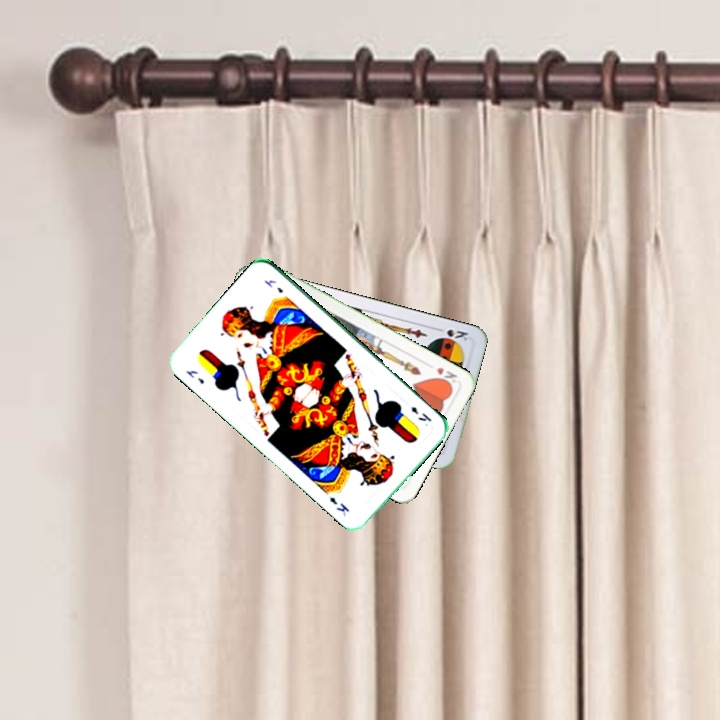EK: (407, 402, 434, 424), (182, 366, 207, 387)
HK: (432, 363, 460, 389)
SK: (432, 324, 471, 343)
